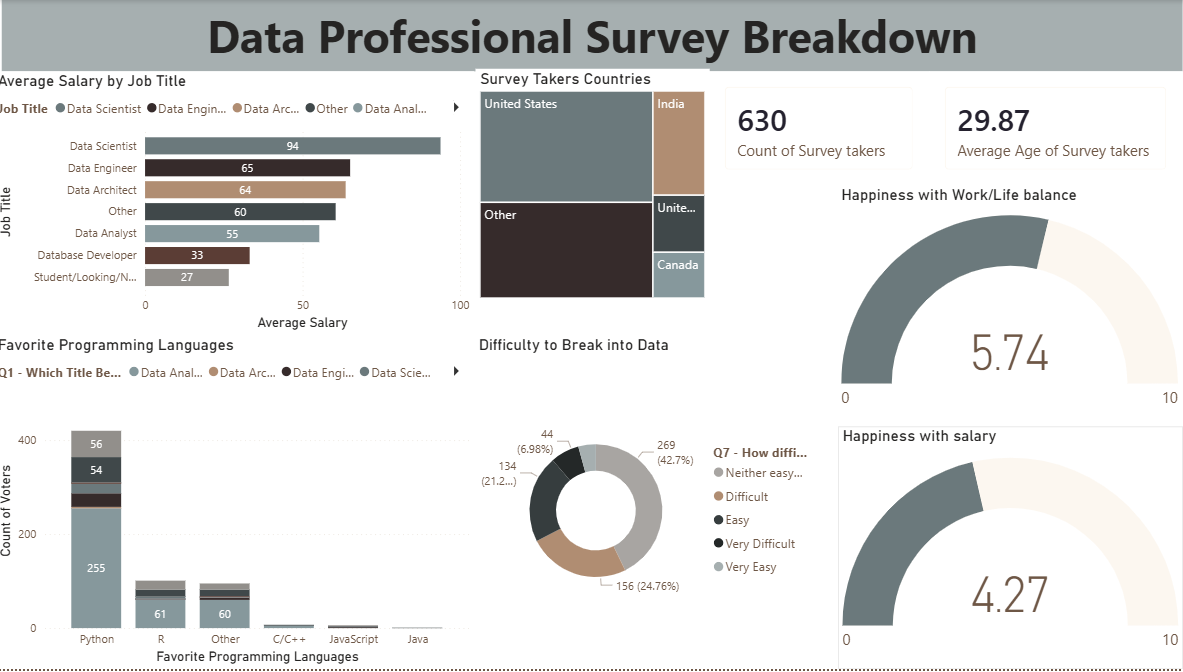

The page's visual inventory and layout, read from the dashboard file:
{"tool":"powerbi","page":{"name":"Page 1","canvas":[1280,720],"ordinal":0},"visuals":[{"type":"textbox","box":[9.6,0,1270.7,76.8],"z":0},{"type":"cardVisual","fields":{"Data":["Count(Data Professional Survey.Unique ID)"]},"box":[770.6,76.7,236.7,123.7],"z":1000},{"type":"cardVisual","fields":{"Data":["Avg(Data Professional Survey.Q10 - Current Age)"]},"box":[1007.3,76.7,273,123.7],"z":2000},{"type":"barChart","title":"Average Salary by Job Title","fields":{"Category":["Data Professional Survey.Q1 - Which Title Best Fits your Current Role?.1"],"Y":["Avg(Data Professional Survey.Average salary)"],"Series":["Data Professional Survey.Q1 - Which Title Best Fits your Current Role?.1"]},"box":[0,76.7,517.8,283.8],"z":3000},{"type":"columnChart","title":"Favorite Programming Languages","fields":{"Category":["Data Professional Survey.Q5 - Favorite Programming Language.1"],"Y":["CountNonNull(Data Professional Survey.Unique ID)"],"Series":["Data Professional Survey.Q1 - Which Title Best Fits your Current Role?.1"]},"box":[0,360.4,517.8,359.1],"z":4000},{"type":"treemap","title":"Survey Takers Countries","fields":{"Group":["Data Professional Survey.Q11 - Which Country do you live in?.1"],"Values":["CountNonNull(Data Professional Survey.Q11 - Which Country do you live in?.1)"]},"box":[519.7,73.7,251.8,251.8],"z":5000},{"type":"gauge","title":"Happiness with salary","fields":{"Y":["Avg(Data Professional Survey.Q6 - How Happy are you in your Current Position with the following? (Salary))"],"MinValue":["Min(Data Professional Survey.Q6 - How Happy are you in your Current Position with the following? (Salary))"],"MaxValue":["Max(Data Professional Survey.Q6 - How Happy are you in your Current Position with the following? (Salary))"]},"box":[908.8,458.6,371.2,260.9],"z":6000},{"type":"gauge","title":"Happiness with Work/Life balance","fields":{"Y":["Avg(Data Professional Survey.Q6 - How Happy are you in your Current Position with the following? (Work/Life Balance))"],"MinValue":["Min(Data Professional Survey.Q6 - How Happy are you in your Current Position with the following? (Work/Life Balance))"],"MaxValue":["Max(Data Professional Survey.Q6 - How Happy are you in your Current Position with the following? (Work/Life Balance))"]},"box":[908.1,199.6,372.2,259],"z":7000},{"type":"donutChart","title":"Difficulty to Break into Data","fields":{"Category":["Data Professional Survey.Q7 - How difficult was it for you to break into Data?"],"Y":["CountNonNull(Data Professional Survey.Q7 - How difficult was it for you to break into Data?)"]},"box":[517.8,360.4,371.2,359.1],"z":8000}]}

Visuals, with their boxes in screenshot pixels (x1, y1, x2, y2), scaled from the page's 1280x720 canvas onto the 1183x672 screenshot:
textbox: x1=9, y1=0, x2=1182, y2=72
cardVisual - Count(Data Professional Survey.Unique ID): x1=712, y1=72, x2=931, y2=187
cardVisual - Avg(Data Professional Survey.Q10 - Current Age): x1=931, y1=72, x2=1182, y2=187
"Average Salary by Job Title" barChart: x1=0, y1=72, x2=479, y2=336
"Favorite Programming Languages" columnChart: x1=0, y1=336, x2=479, y2=671
"Survey Takers Countries" treemap: x1=480, y1=69, x2=713, y2=304
"Happiness with salary" gauge: x1=840, y1=428, x2=1182, y2=671
"Happiness with Work/Life balance" gauge: x1=839, y1=186, x2=1182, y2=428
"Difficulty to Break into Data" donutChart: x1=479, y1=336, x2=822, y2=671
